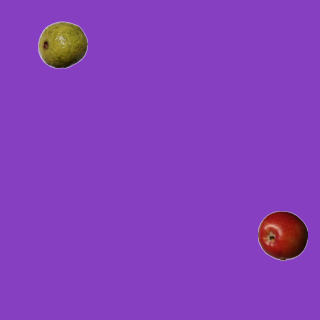Apple Braeburn: (257, 210, 307, 260)
Guava: (37, 19, 87, 69)
